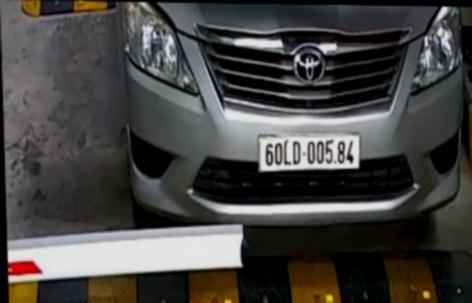License_Plate: (250, 128, 363, 178)
